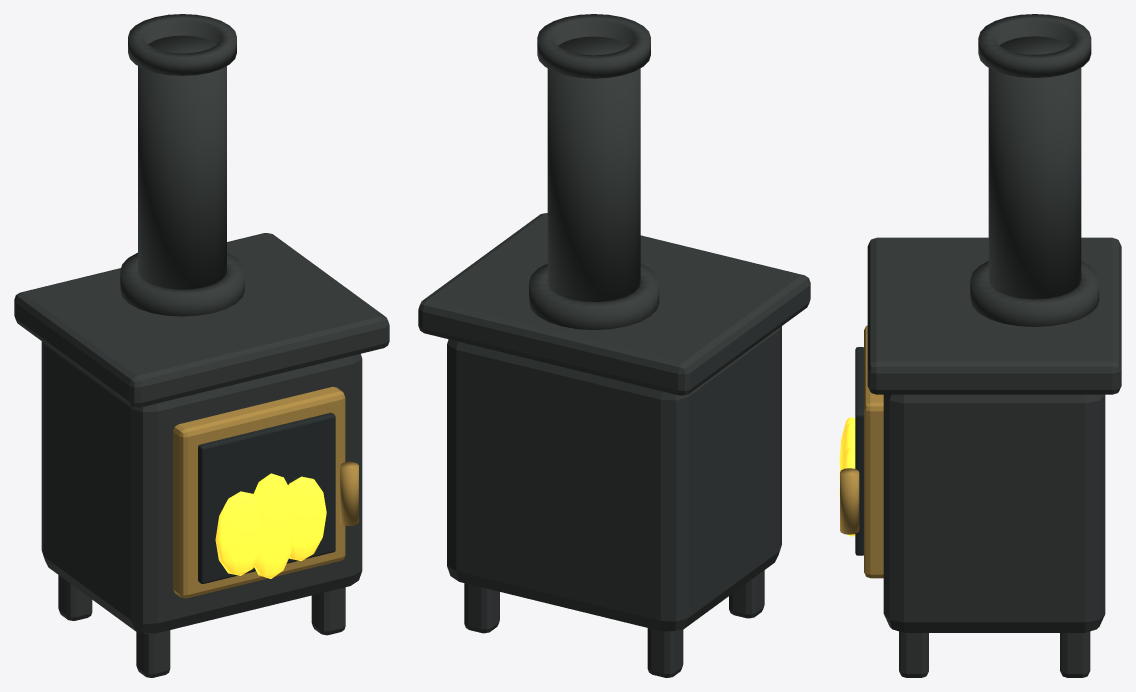
Rendered from 16_wood_stove.glb.
3 renders of one model, left to right at view 1: azimuth 30°, elevation 25°; view 2: azimuth 150°, elevation 25°; view 3: azimuth 270°, elevation 25°, orthographic. The views are drawn at different scales.
Parts seen in each view (by area): view 1: Stove body.001, Stove top.001, Flue.001, Firebox.001, Firebox trim.001, Flue lip.001, Flue collar.001, Flame.004, Flame.003, Flame.005, Stove foot.004, Stove foot.006 (+2 smaller); view 2: Stove body.001, Stove top.001, Flue.001, Flue lip.001, Flue collar.001, Stove foot.005, Stove foot.007, Stove foot.004; view 3: Stove body.001, Stove top.001, Flue.001, Flue lip.001, Flue collar.001, Firebox trim.001, Firebox.001, Stove foot.007, Stove foot.006, Door handle.001.
Part boxes in pixels (x1,y1,x2,y2): Stove body.001: [41, 341, 362, 633]; Stove top.001: [14, 233, 389, 407]; Flue.001: [138, 35, 226, 289]; Firebox.001: [198, 412, 335, 583]; Firebox trim.001: [173, 386, 345, 598]; Flue lip.001: [128, 14, 236, 75]; Flue collar.001: [120, 252, 244, 316]; Flame.004: [253, 473, 291, 578]; Flame.003: [215, 491, 260, 575]; Flame.005: [288, 476, 326, 560]; Stove foot.004: [136, 630, 170, 677]; Stove foot.006: [311, 587, 345, 635]; Stove body.001: [447, 326, 781, 631]; Stove top.001: [418, 213, 810, 395]; Flue.001: [547, 36, 640, 301]; Flue lip.001: [537, 14, 650, 78]; Flue collar.001: [529, 263, 659, 329]; Stove foot.005: [647, 628, 683, 677]; Stove foot.007: [464, 583, 499, 633]; Stove foot.004: [729, 570, 764, 618]; Stove body.001: [883, 394, 1105, 632]; Stove top.001: [867, 237, 1121, 394]; Flue.001: [988, 36, 1081, 299]; Flue lip.001: [978, 14, 1091, 77]; Flue collar.001: [970, 261, 1099, 326]; Firebox trim.001: [864, 325, 883, 578]; Firebox.001: [855, 347, 863, 555]; Stove foot.007: [1060, 631, 1090, 677]; Stove foot.006: [899, 631, 928, 677]; Door handle.001: [840, 468, 859, 534].
Bounding box in the file's own units: 0.77 × 1.62 × 0.7.
